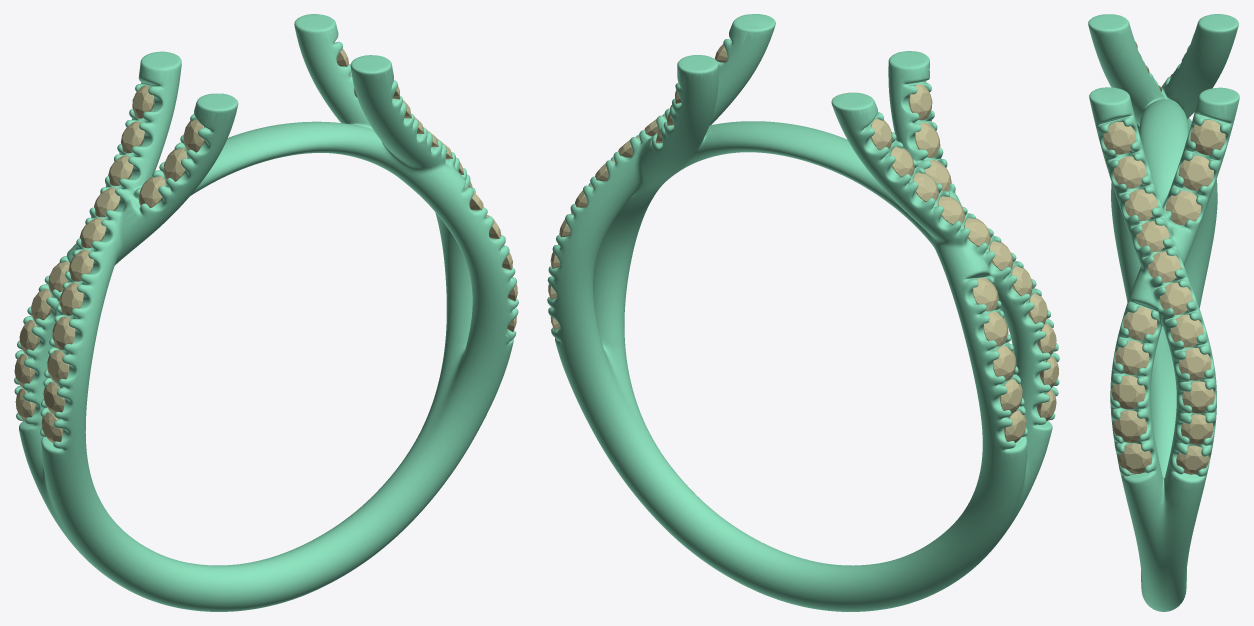
3 renders of one model, left to right at view 1: azimuth 30°, elevation 25°; view 2: azimuth 150°, elevation 25°; view 3: azimuth 270°, elevation 25°, orthographic. The views are drawn at different scales.
Parts seen in each view (by area): view 1: Metal02; view 2: Metal02; view 3: Metal02, Diamond_Gem.012, Diamond_Gem.011, Diamond_Gem.013, Diamond_Gem.016, Diamond_Gem.018, Diamond_Gem.017, Diamond_Gem.015, Diamond_Gem.009, Diamond_Gem.010, Diamond_Gem.008, Diamond_Gem.014 (+8 smaller).
Part boxes in pixels (bbox=[...]): Metal02: bbox=[14, 14, 518, 611]; Metal02: bbox=[547, 14, 1059, 611]; Metal02: bbox=[1088, 14, 1239, 611]; Diamond_Gem.012: bbox=[1178, 155, 1213, 190]; Diamond_Gem.011: bbox=[1190, 119, 1225, 154]; Diamond_Gem.013: bbox=[1166, 190, 1201, 225]; Diamond_Gem.016: bbox=[1111, 375, 1145, 409]; Diamond_Gem.018: bbox=[1123, 307, 1157, 340]; Diamond_Gem.017: bbox=[1115, 341, 1149, 374]; Diamond_Gem.015: bbox=[1113, 410, 1146, 442]; Diamond_Gem.009: bbox=[1113, 156, 1146, 188]; Diamond_Gem.010: bbox=[1103, 121, 1135, 154]; Diamond_Gem.008: bbox=[1125, 189, 1157, 221]; Diamond_Gem.014: bbox=[1118, 443, 1151, 473].
Bounding box in the file's own units: 21.04 × 23.1 × 6.
